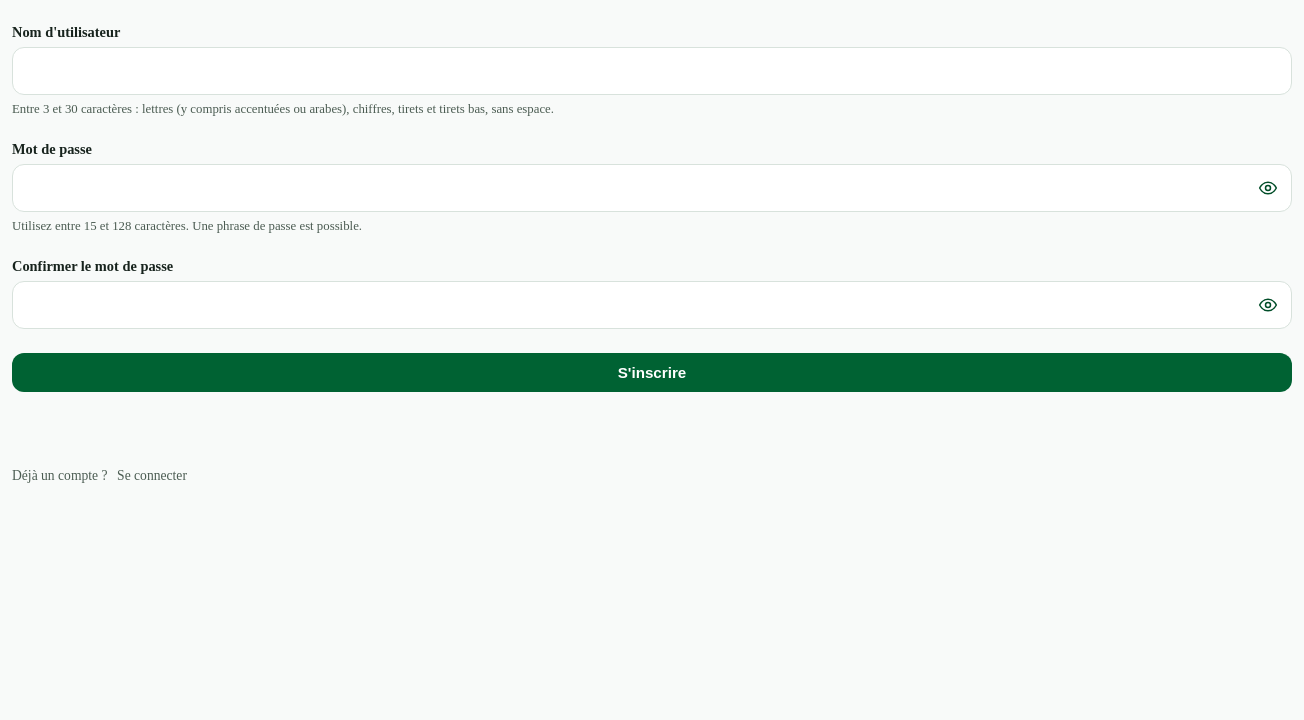
RegistrationForm › shows every error and focuses the first invalid field on submit with empty fields
Click the button "S'inscrire". click: {"x": 652, "y": 373}
box: [12,353,1292,392]
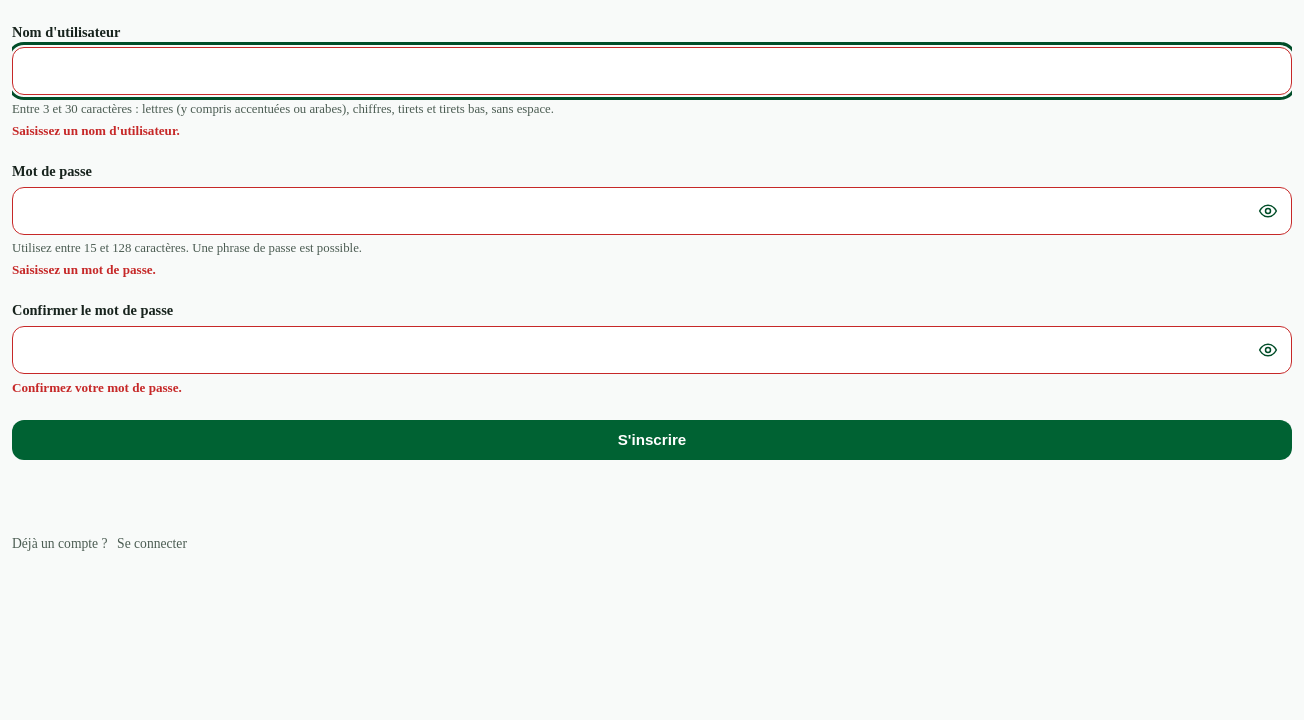
Now the text "Saisissez un nom d'utilisateur." is shown, box [12,123,180,138]
